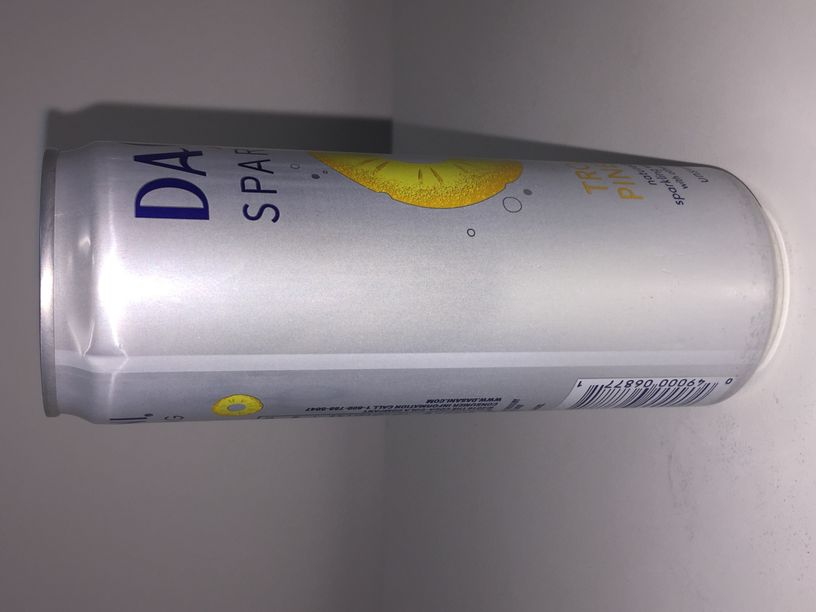pineapple: (37, 142, 786, 425)
